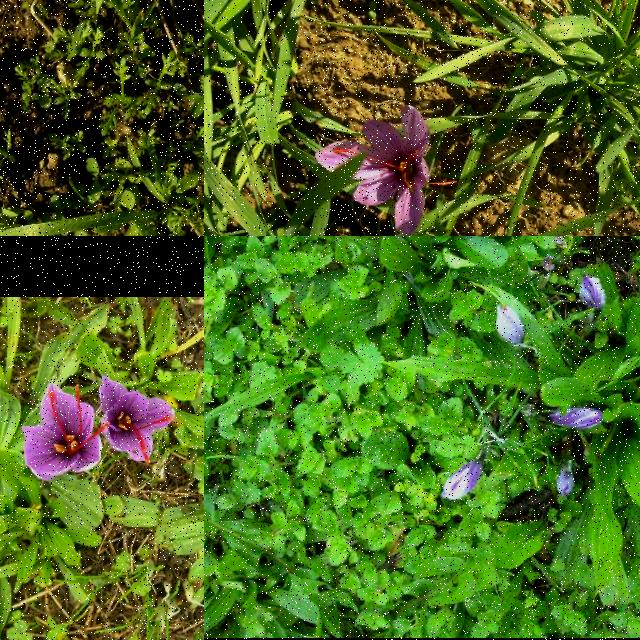flower: (314, 104, 462, 236), (22, 384, 108, 482), (99, 374, 175, 466), (442, 460, 484, 500), (547, 406, 605, 428), (497, 307, 525, 345), (580, 273, 606, 309), (556, 466, 576, 496)
